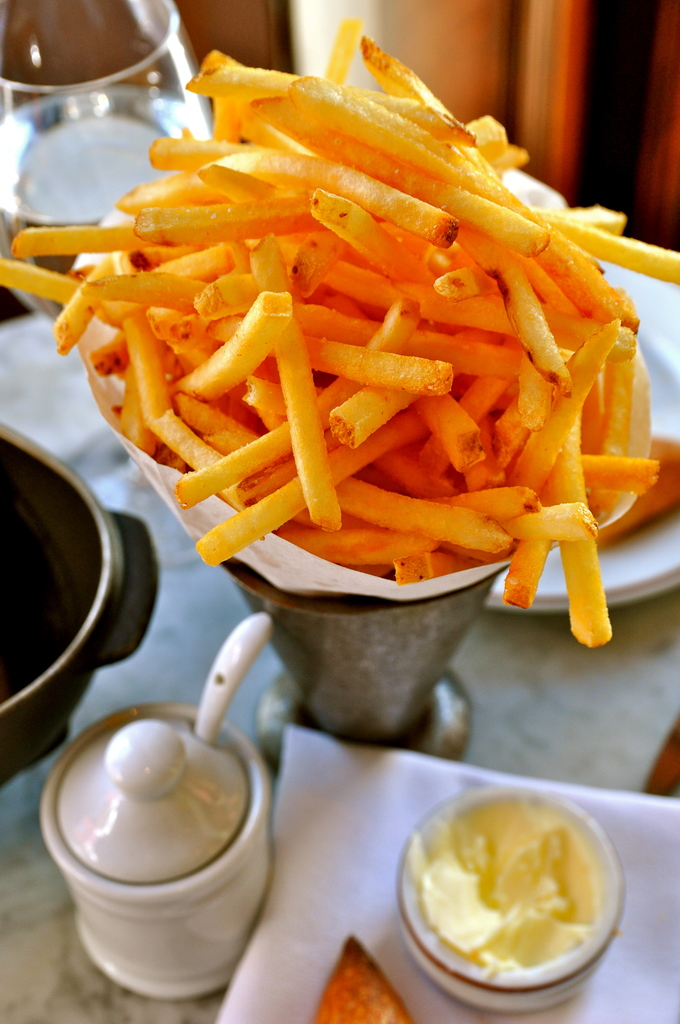French fries: (55, 84, 623, 643)
